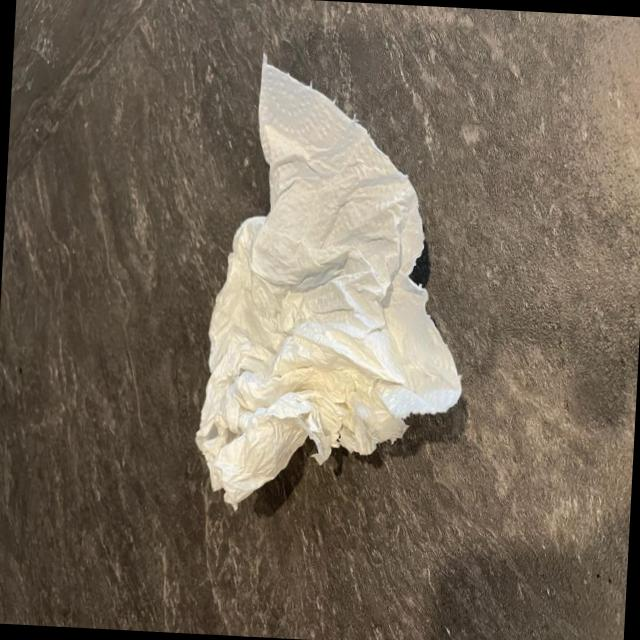organic waste: (189, 51, 481, 520)
